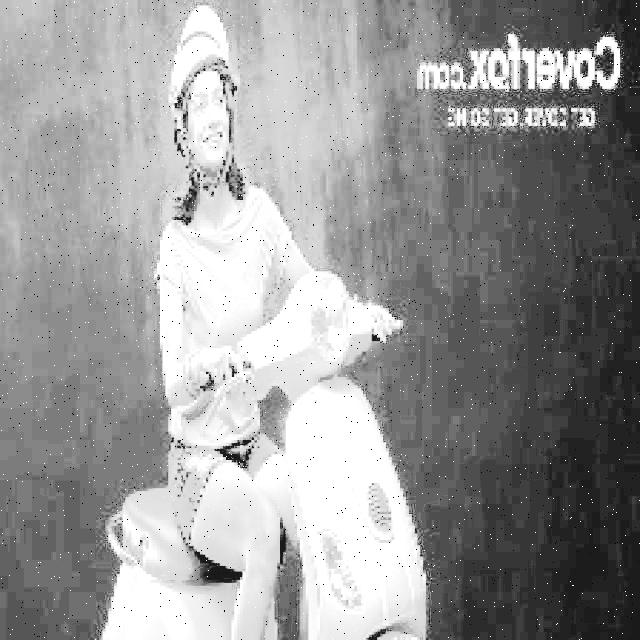Bike: (93, 309, 440, 639)
